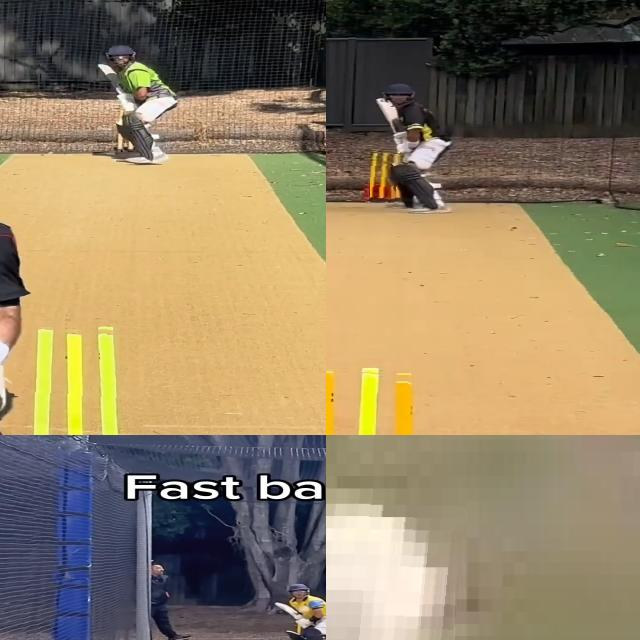Cricket ball: (326, 490, 467, 640), (298, 605, 311, 615)
Stumps: (14, 321, 144, 435), (326, 367, 428, 435), (370, 150, 400, 203)
